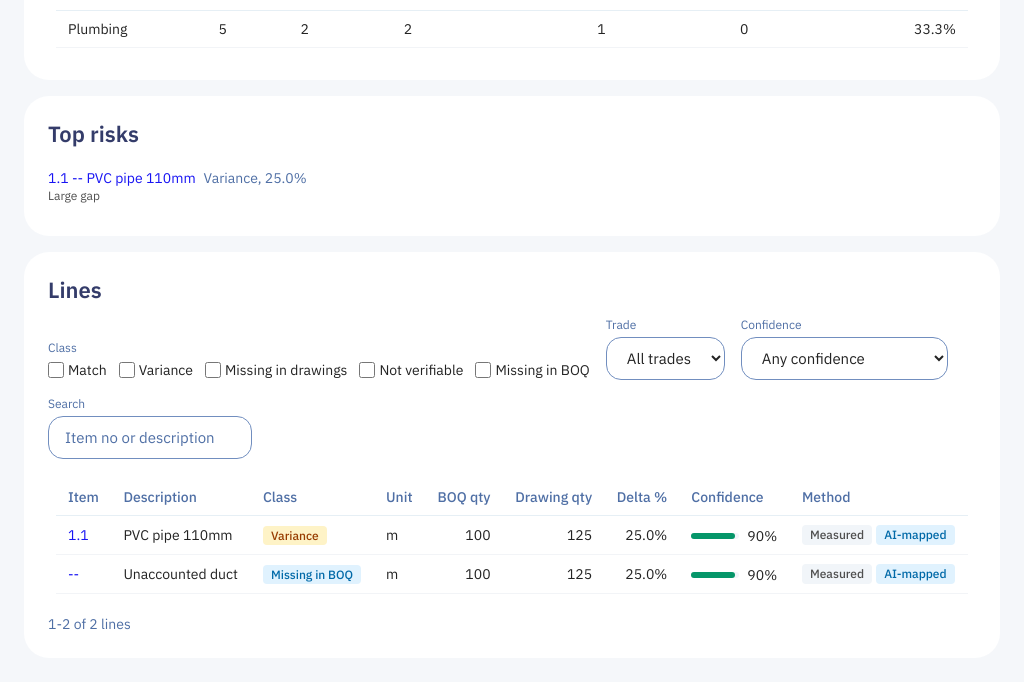
Test: VerificationPage › sends the right mapping request and updates the line in place
(page scrolled)
Click the button named "Open line 1.1".
click(78, 535)  # box [68,525,89,545]
(page scrolled)
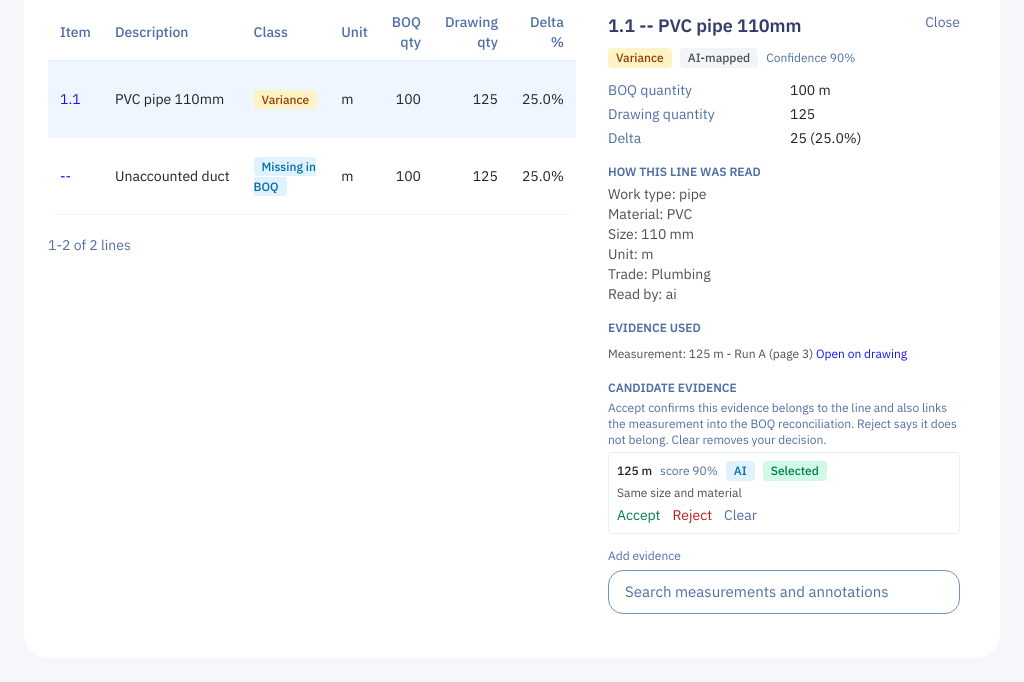
Expected: the dialog named "Line detail" shows "links the measurement into the BOQ reconciliation", [608,400,957,447]
Click the button named "Accept m:abc-123".
click(639, 515)  # box [617,505,660,525]
(page scrolled)
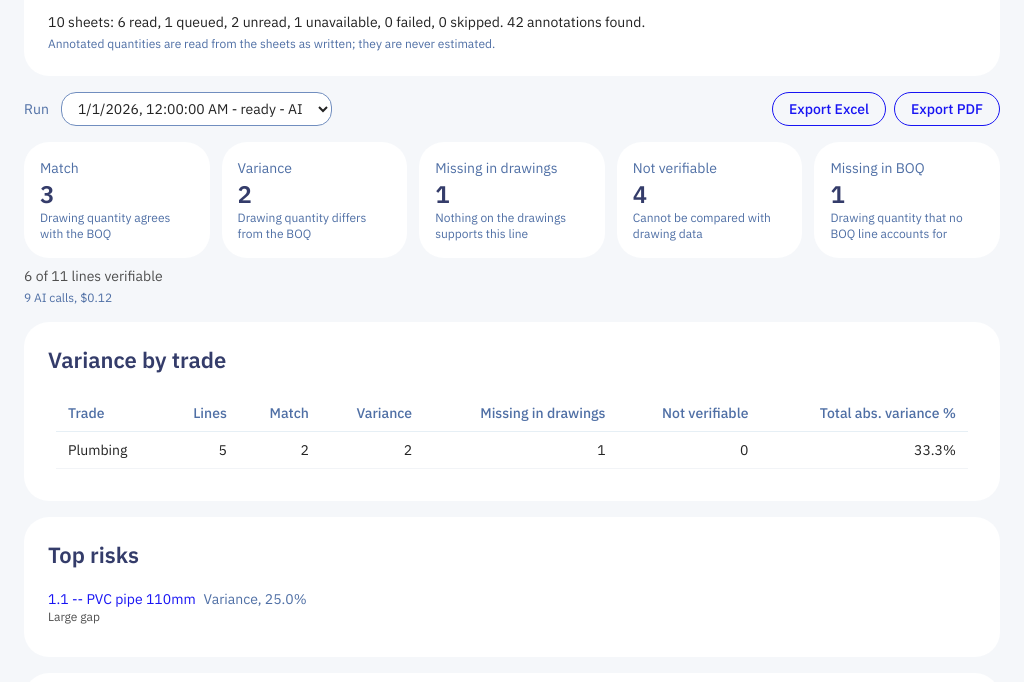
Expected: the text "9 AI calls, $0.12" is shown, [24,290,112,305]
